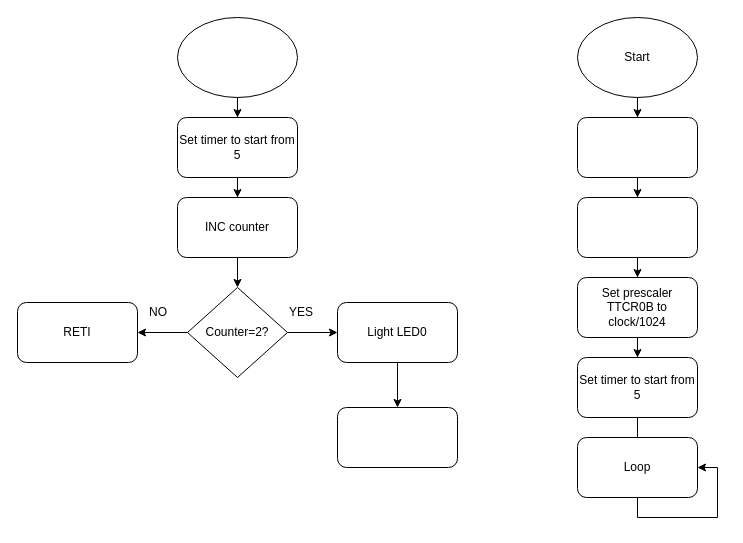
The diagram is 743 pixels wide and 543 high, and some of its shapes have lost their labels. The shapes that lost their labels are listed below. From the top down, each one's centre as x and y in pixels, then its label:
At (237,57): "Timer interrupt".
At (637,147): "Initialize SP".
At (637,227): "PortB output".
At (397,437): "Reset counter".
